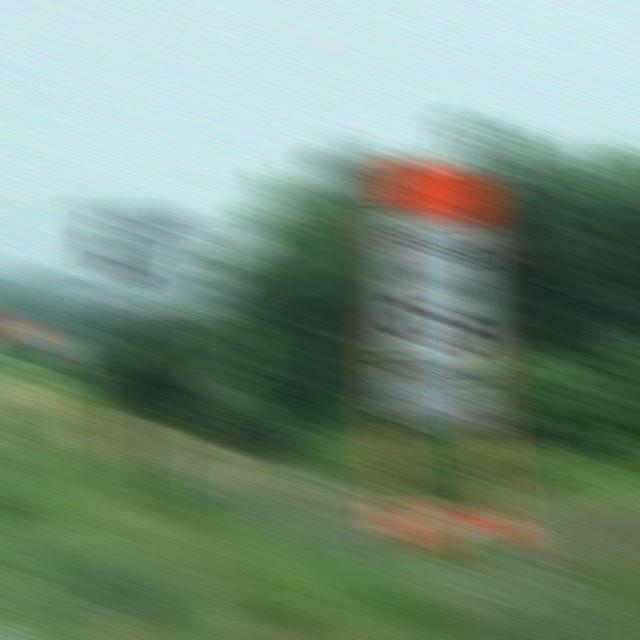speedLimit35: (384, 219, 491, 365)
